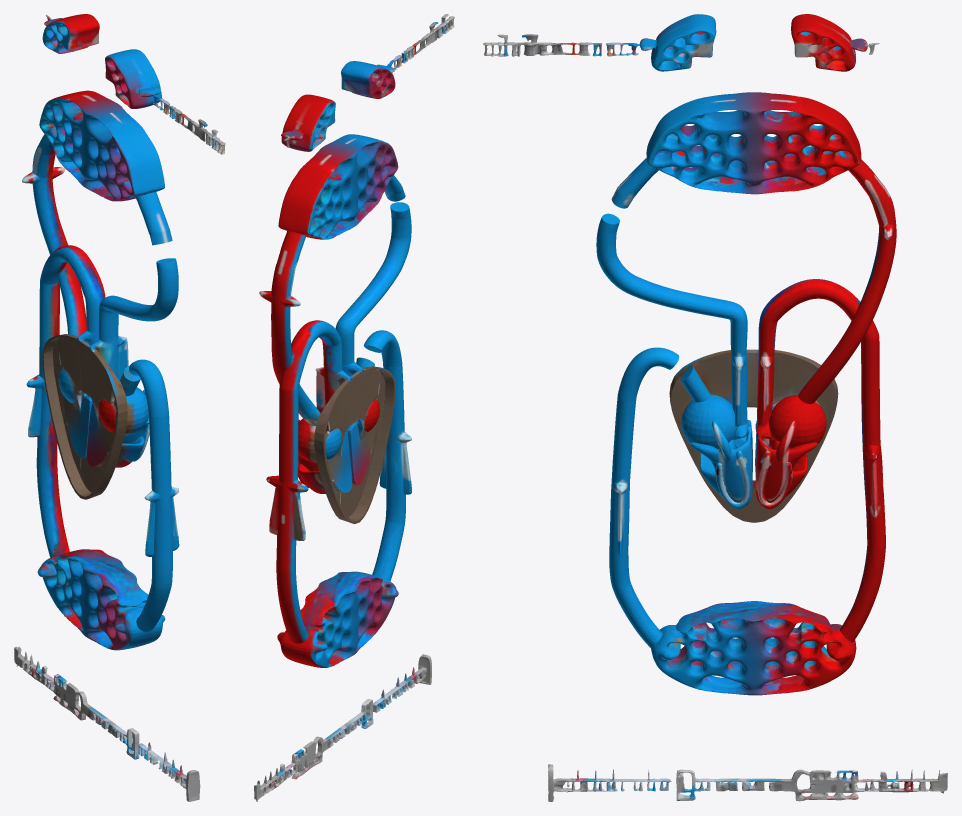
Rendered from Circulatory+Pathway.glb.
The picture shows the model from 3 angles, left to right: view 1: azimuth 30°, elevation 25°; view 2: azimuth 150°, elevation 25°; view 3: azimuth 270°, elevation 25°; orthographic projection. The views are drawn at different scales.
Visible parts, largest first — view 1: tripo_node_3e56f8fe-c25e-407e-a76b-188a8b1a3861; view 2: tripo_node_3e56f8fe-c25e-407e-a76b-188a8b1a3861; view 3: tripo_node_3e56f8fe-c25e-407e-a76b-188a8b1a3861.
Part boxes in pixels (x1=…): tripo_node_3e56f8fe-c25e-407e-a76b-188a8b1a3861: x1=14, y1=14, x2=225, y2=801; tripo_node_3e56f8fe-c25e-407e-a76b-188a8b1a3861: x1=254, y1=14, x2=454, y2=801; tripo_node_3e56f8fe-c25e-407e-a76b-188a8b1a3861: x1=483, y1=14, x2=947, y2=801.
Bounding box in the file's own units: 0.0932 × 0.9912 × 0.5358.
1 material, 1 textured.
